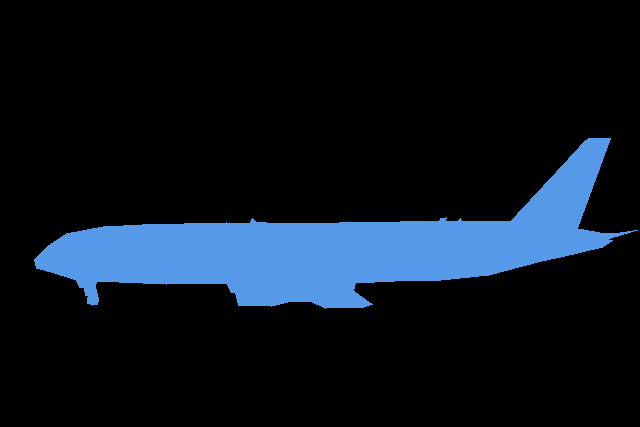Airplane: (34, 138, 640, 309)
